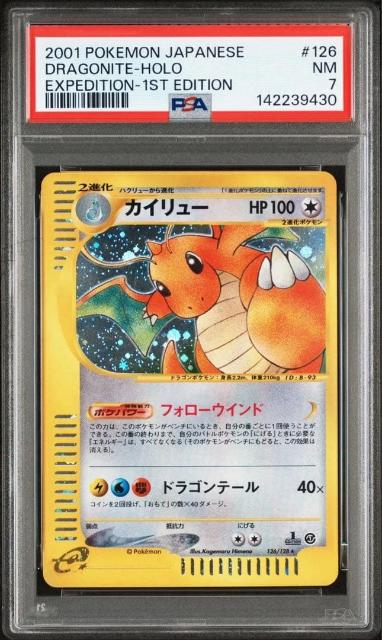Card: (36, 166, 344, 594)
Name: (122, 194, 212, 222)
